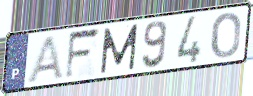4: (175, 13, 204, 66)
9: (141, 19, 169, 70)
A: (25, 33, 66, 83)
F: (64, 25, 103, 82)
M: (99, 22, 140, 76)
O: (210, 11, 242, 60)
